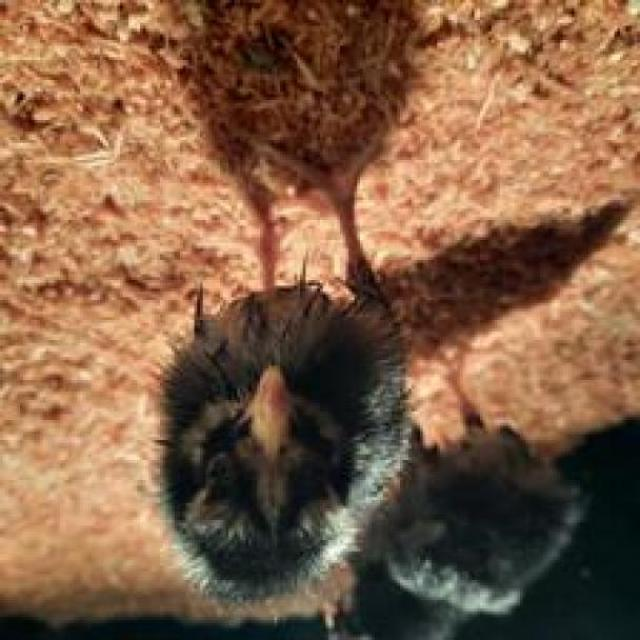Chicken: (142, 221, 406, 640)
